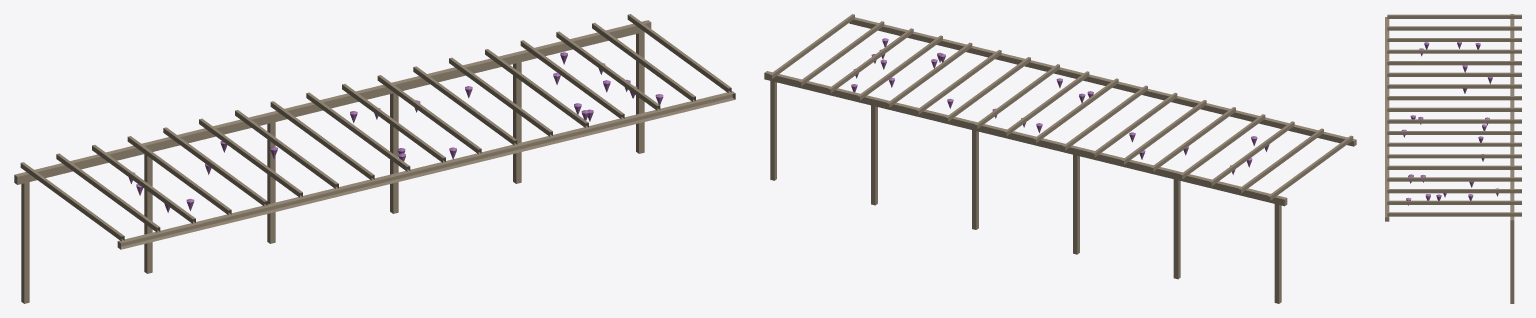
The model's file is SM_BM_BH_OsteriaPergola.glb.
The picture shows the model from 3 angles, left to right: view 1: azimuth 30°, elevation 25°; view 2: azimuth 150°, elevation 25°; view 3: azimuth 270°, elevation 25°; orthographic projection. The views are drawn at different scales.
Visible parts, largest first — view 1: SM_BM_BH_OsteriaPergola; view 2: SM_BM_BH_OsteriaPergola; view 3: SM_BM_BH_OsteriaPergola.
Part boxes in pixels (<box>): SM_BM_BH_OsteriaPergola: <box>14,14,735,303</box>; SM_BM_BH_OsteriaPergola: <box>764,14,1356,303</box>; SM_BM_BH_OsteriaPergola: <box>1385,14,1521,303</box>.
Bounding box in the file's own units: 16.5 × 3.32 × 4.62.
